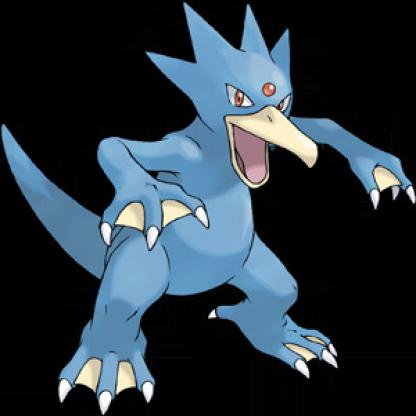Golduck: (1, 1, 416, 410)
